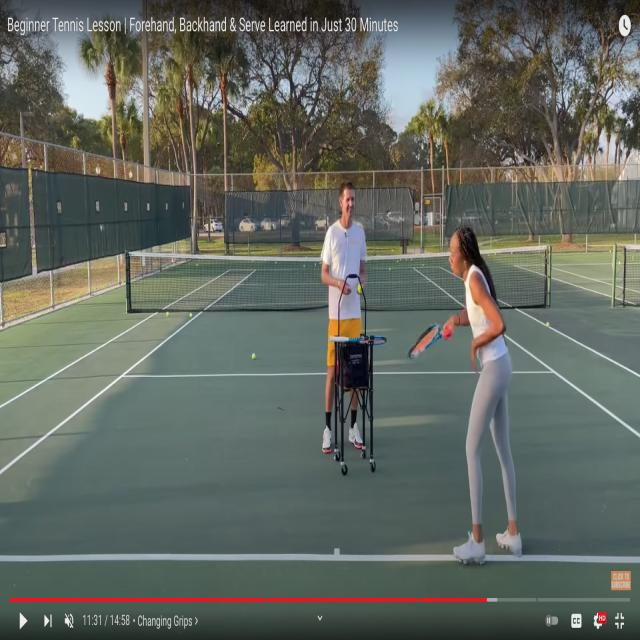ball: (252, 352, 256, 360), (546, 321, 550, 328), (189, 312, 193, 318), (388, 266, 392, 272), (396, 258, 399, 264), (399, 256, 402, 262), (166, 312, 169, 317), (196, 262, 199, 267), (314, 262, 317, 267), (365, 258, 368, 263), (405, 256, 407, 262), (410, 258, 413, 262), (276, 260, 278, 265), (319, 262, 322, 265), (422, 263, 425, 266), (304, 264, 306, 268), (252, 259, 254, 262)
